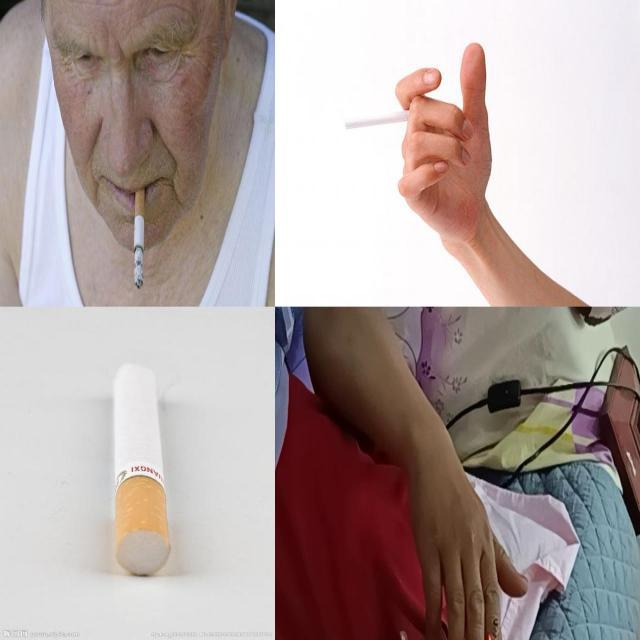smoking: (115, 364, 170, 576), (342, 97, 430, 132), (133, 180, 147, 290), (482, 617, 500, 639)
